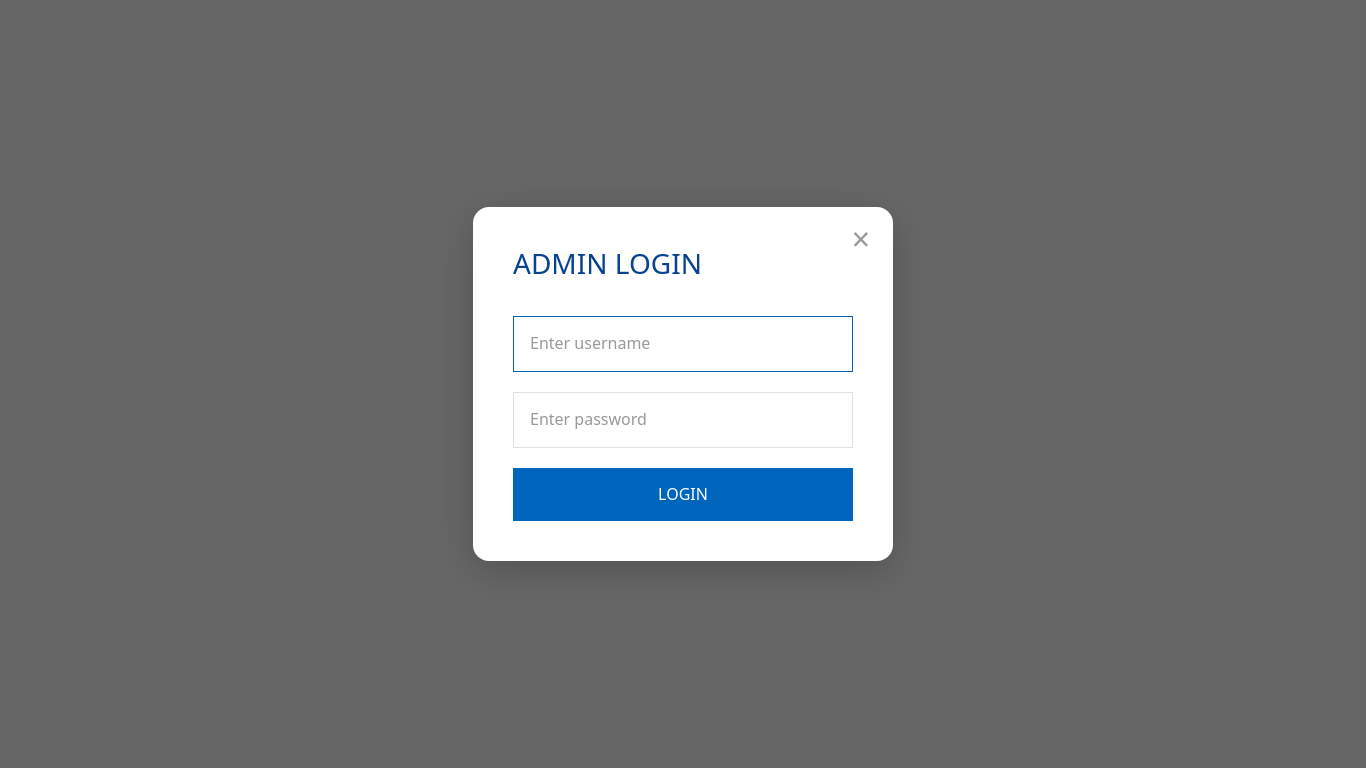
Test: AdminLoginModal › password login › shows the wrong-credentials message and does not persist on non-OK
In the field with placeholder "Enter username": (683, 344) [513, 316, 853, 372], type "alice"
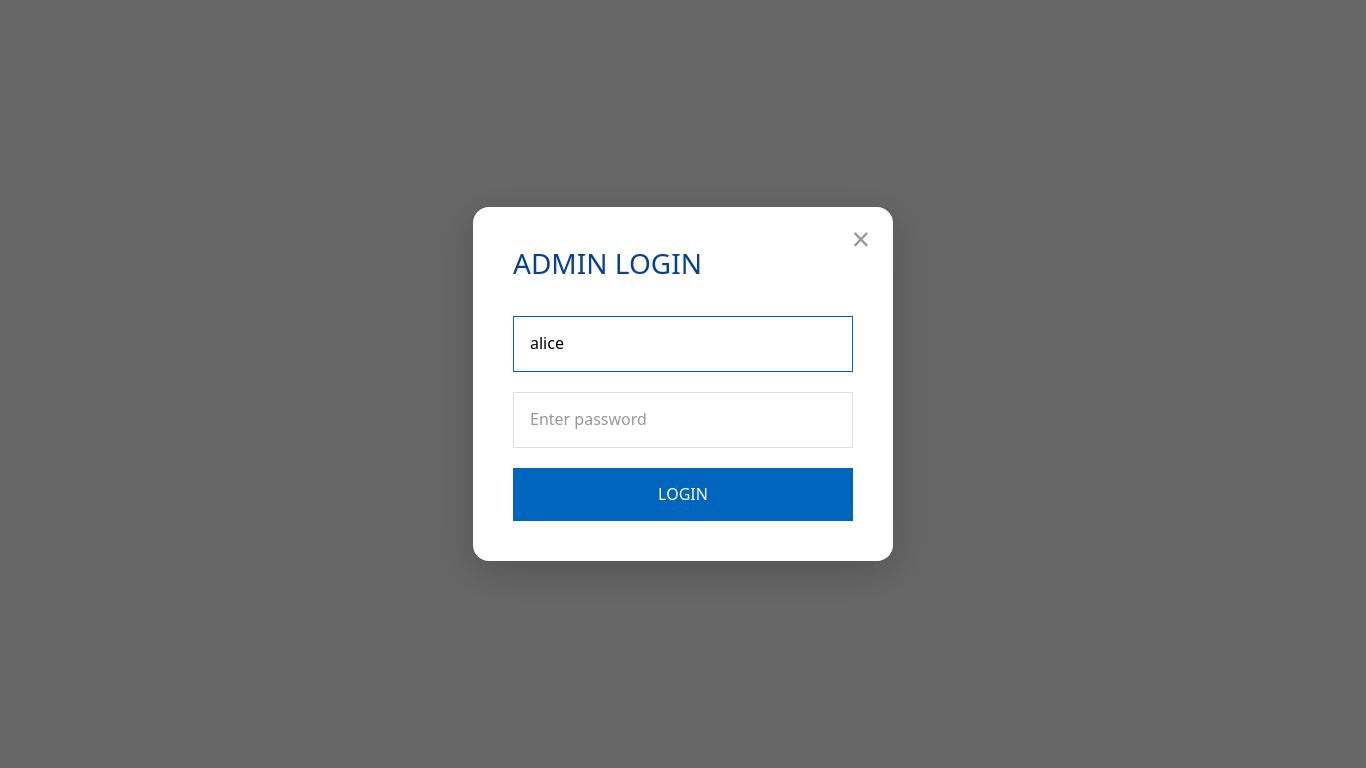
In the password field with placeholder "Enter password": (683, 420) [513, 392, 853, 448], type "bad"
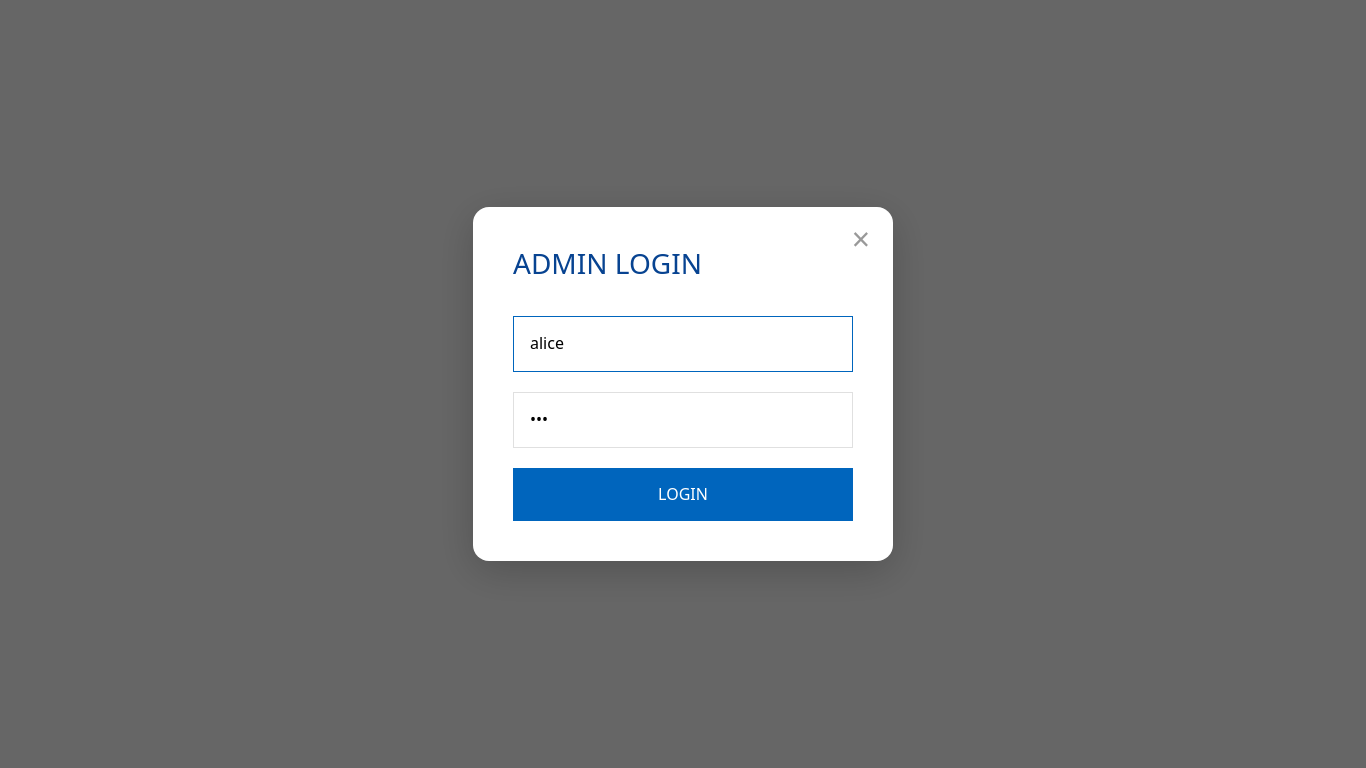
Click the button "Login": click(683, 494) [513, 468, 853, 521]
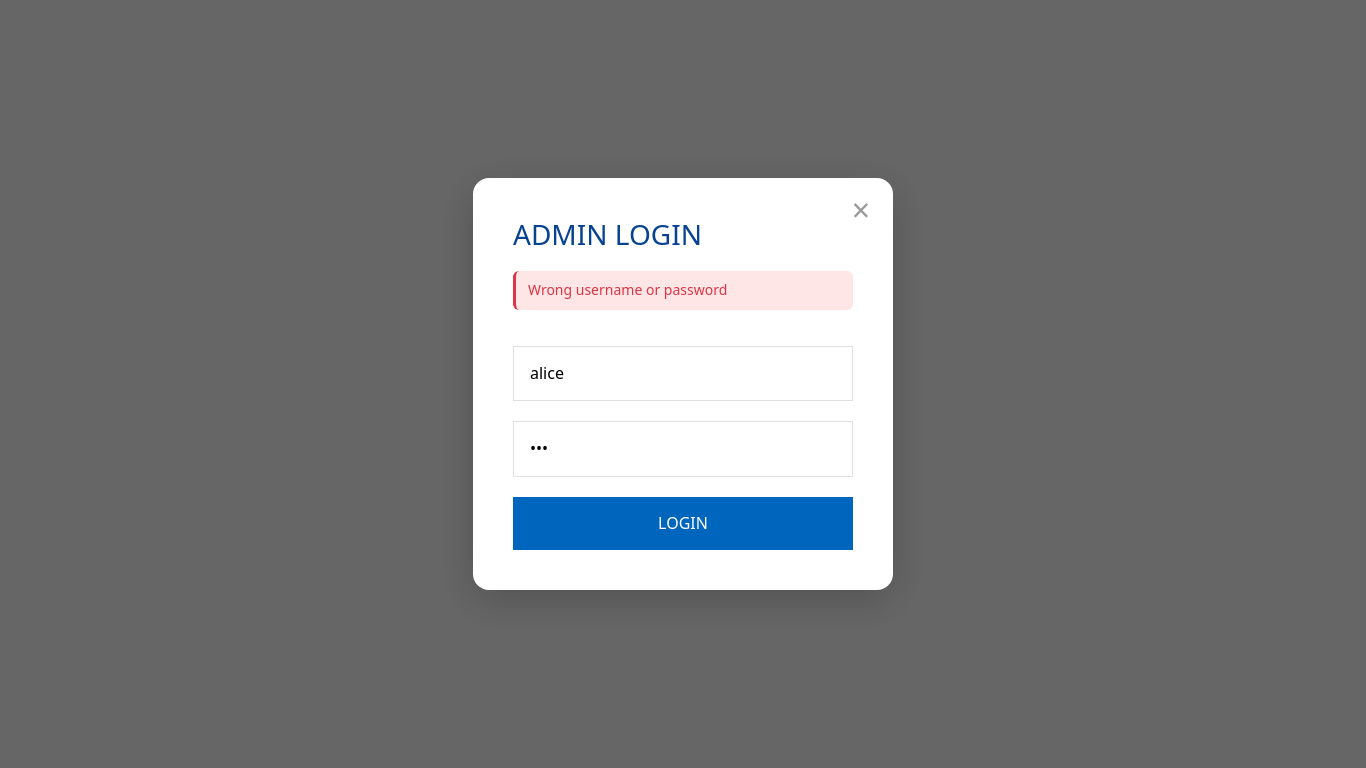
Expected: the text "Wrong username or password" is shown, [513, 271, 853, 310]
